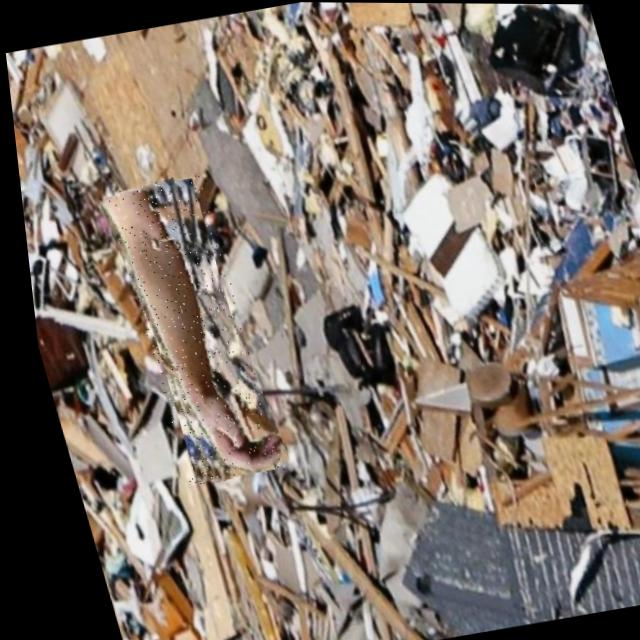Person in Rubble: (98, 172, 274, 485)
